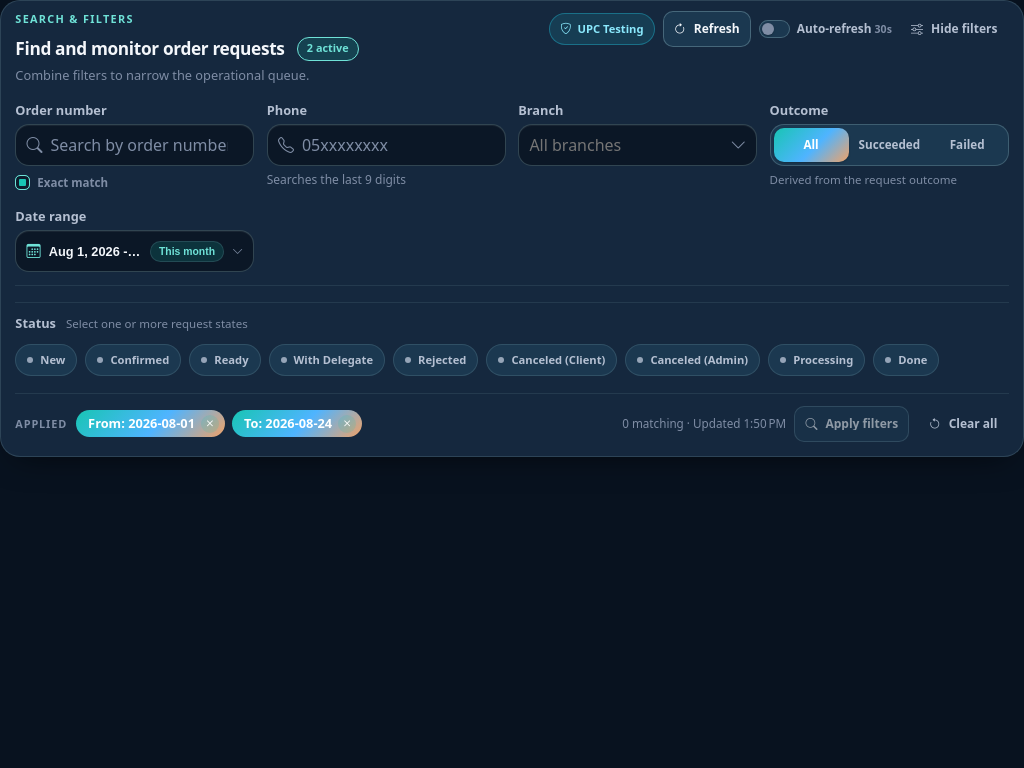
Test: FilterBarComponent › opens a modern range popover with presets and a six-week calendar grid
What coordinates should you click on to do the following:
click the button with class "date-trigger"
I would click on:
 (135, 251)
Its box is [15,230,254,272].
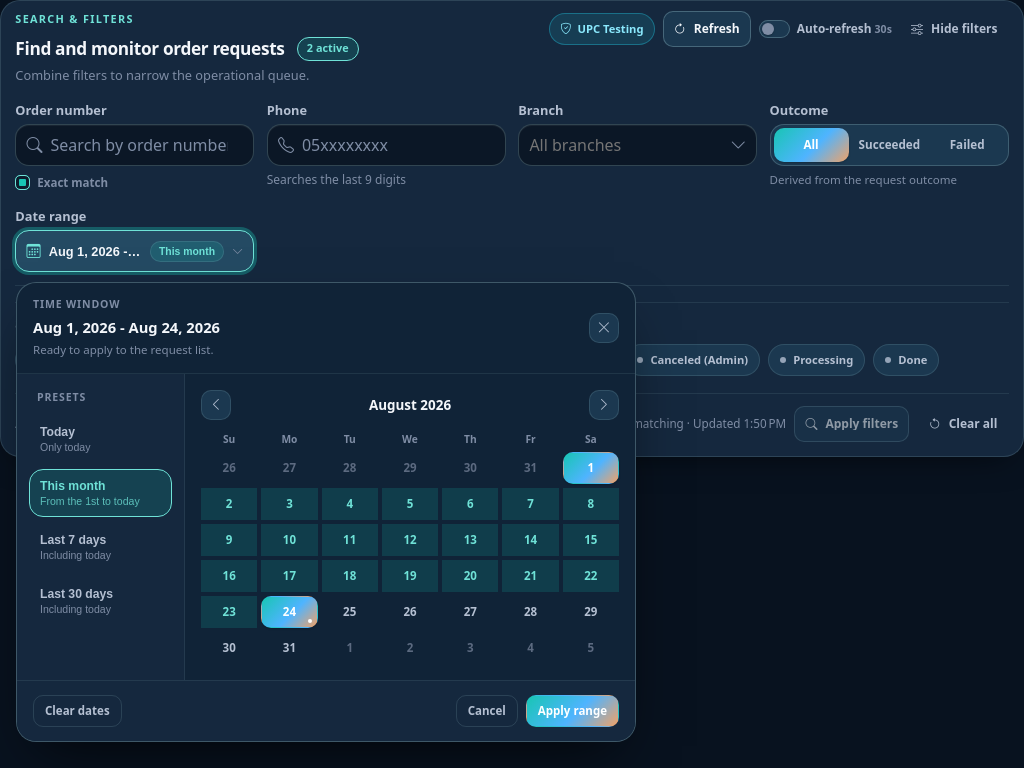
Expected: the dialog with class "date-popover" is shown, [16,282,636,742]
Expected: the number of buttons with class "date-preset" is 4, [29,415,172,463]; [29,469,172,517]; [29,523,172,571]; [29,577,172,625]
Expected: the number of cells with class "calendar-day" is 42
